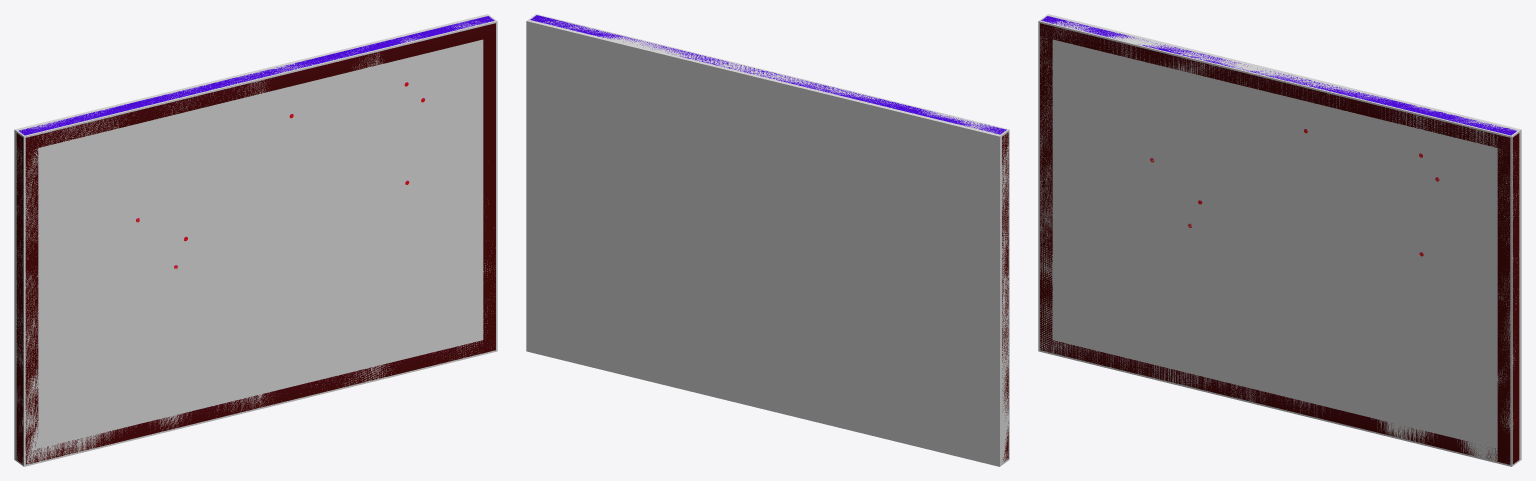
File: prop_cork_board.fbx
3 renders of one model, left to right at view 1: azimuth 30°, elevation 25°; view 2: azimuth 150°, elevation 25°; view 3: azimuth 330°, elevation 25°, orthographic.
Parts seen in each view (by area): view 1: COL_0, prop_cork_board; view 2: COL_0, prop_cork_board; view 3: COL_0, prop_cork_board.
Boxes of the visible parts, left/top/right/bottom form: COL_0: left=14, top=14, right=497, bottom=466; prop_cork_board: left=16, top=16, right=495, bottom=464; COL_0: left=526, top=14, right=1009, bottom=466; prop_cork_board: left=530, top=15, right=1008, bottom=461; COL_0: left=1038, top=14, right=1521, bottom=466; prop_cork_board: left=1040, top=16, right=1519, bottom=464.
Bounding box in the file's own units: 0.9 × 0.6 × 0.032.
